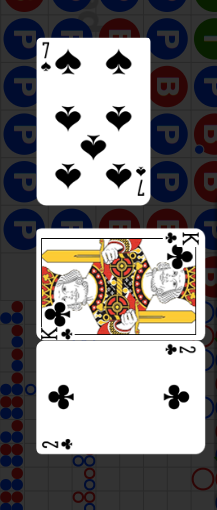2C: (41, 437, 75, 451)
7S: (39, 41, 53, 74), (135, 164, 148, 198)
